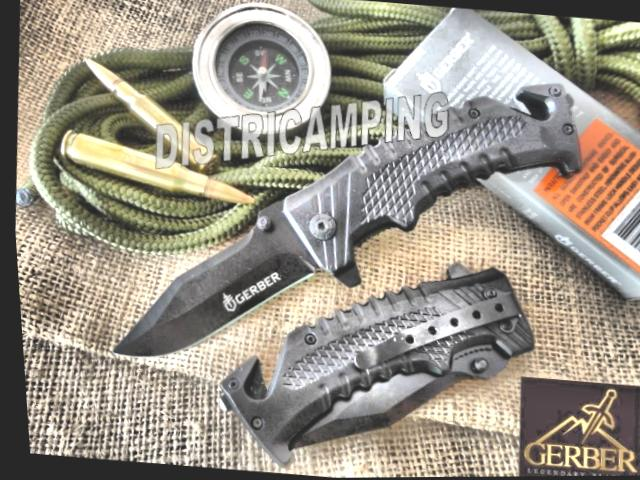knife: (88, 189, 329, 381)
